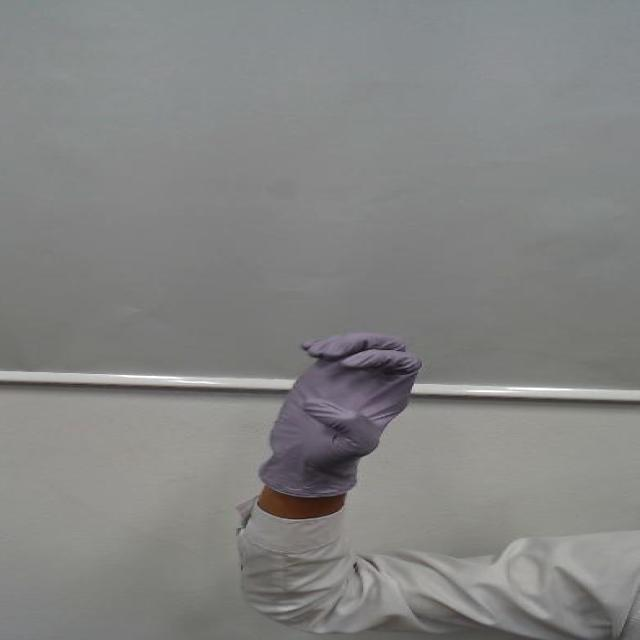glove: (266, 325, 431, 459)
